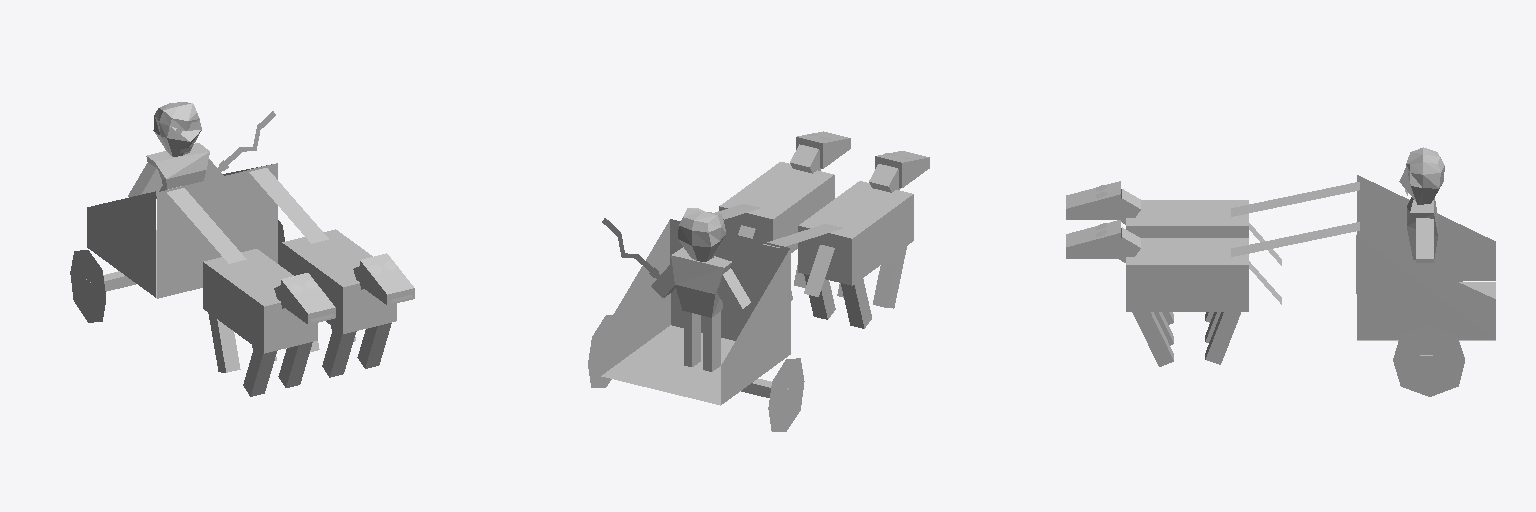
The model's file is heavychariot3.obj.
The picture shows the model from 3 angles: view 1: azimuth 30°, elevation 25°; view 2: azimuth 150°, elevation 25°; view 3: azimuth 270°, elevation 25°; orthographic projection.
Parts seen in each view (by area): view 1: Plane.005_Plane.006, Cube.015_Cube.017, Cube.006_Cube.009, Plane.003, Plane.007_Plane.008, Cube, Cube.001, Cube.021_Cube.023, Cube.014_Cube.016, Plane.013_Plane.014, Plane.012_Plane.013, Cube.016_Cube.018 (+5 smaller); view 2: Cube.015_Cube.017, Cube.006_Cube.009, Plane.003, Plane.002, Plane.004, Plane.005_Plane.006, Cube.001, Cube, Plane.007_Plane.008, Cube.019_Cube.021, Cube.021_Cube.023, Cube.014_Cube.016 (+10 smaller); view 3: Plane.004, Cube.006_Cube.009, Plane.003, Cube.015_Cube.017, Plane.006_Plane.007, Cube, Cube.014_Cube.016, Cube.021_Cube.023, Plane.012_Plane.013, Plane.013_Plane.014, Cube.011_Cube.013, Cube.010_Cube.012 (+2 smaller).
Boxes of the visible parts, <box> form: Plane.005_Plane.006: <box>157,163,277,298</box>; Cube.015_Cube.017: <box>203,249,317,353</box>; Cube.006_Cube.009: <box>282,229,396,333</box>; Plane.003: <box>87,191,155,297</box>; Plane.007_Plane.008: <box>70,250,105,322</box>; Cube: <box>153,102,201,156</box>; Cube.001: <box>146,143,209,198</box>; Cube.021_Cube.023: <box>281,273,335,324</box>; Cube.014_Cube.016: <box>360,253,414,305</box>; Plane.013_Plane.014: <box>249,166,328,243</box>; Plane.012_Plane.013: <box>167,186,246,263</box>; Cube.016_Cube.018: <box>208,313,240,372</box>; Cube.015_Cube.017: <box>798,181,913,285</box>; Cube.006_Cube.009: <box>719,162,834,252</box>; Plane.003: <box>721,248,790,404</box>; Plane.002: <box>601,325,734,405</box>; Plane.004: <box>601,220,670,375</box>; Plane.005_Plane.006: <box>670,219,789,340</box>; Cube.001: <box>671,247,732,317</box>; Cube: <box>678,208,725,261</box>; Plane.007_Plane.008: <box>768,358,804,431</box>; Cube.019_Cube.021: <box>873,246,906,308</box>; Cube.021_Cube.023: <box>875,151,929,187</box>; Cube.014_Cube.016: <box>796,131,850,168</box>; Plane.004: <box>1356,235,1495,339</box>; Cube.006_Cube.009: <box>1126,238,1248,311</box>; Plane.003: <box>1357,175,1495,280</box>; Cube.015_Cube.017: <box>1126,200,1248,237</box>; Plane.006_Plane.007: <box>1393,324,1464,396</box>; Cube: <box>1399,147,1444,204</box>; Cube.014_Cube.016: <box>1066,220,1120,258</box>; Cube.021_Cube.023: <box>1066,181,1120,219</box>; Plane.012_Plane.013: <box>1231,182,1359,216</box>; Plane.013_Plane.014: <box>1231,222,1359,256</box>; Cube.011_Cube.013: <box>1132,312,1173,366</box>; Cube.010_Cube.012: <box>1205,312,1240,364</box>.
Size of the model in its own units: 7.44 by 7.5 by 14.9.